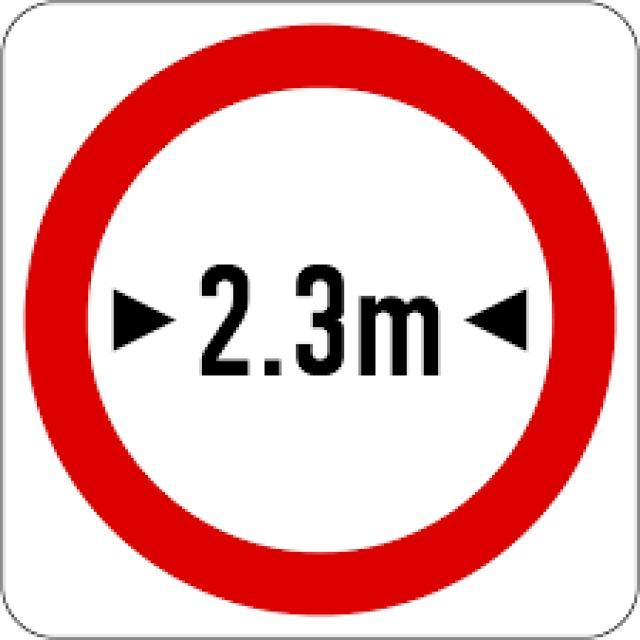width limit: (27, 20, 616, 618)
